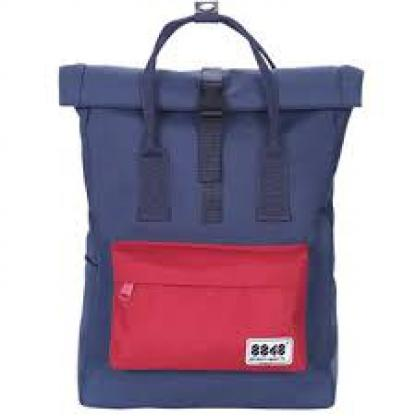morral: (43, 4, 364, 410)
